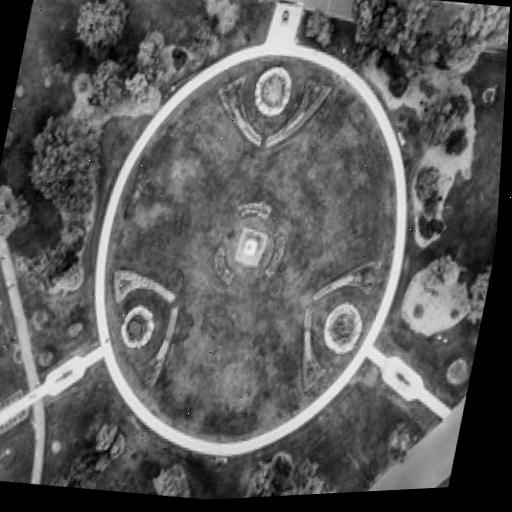tree-top: (28, 110, 106, 207), (435, 0, 511, 81), (250, 453, 356, 497), (64, 0, 137, 57), (379, 0, 443, 60), (411, 94, 465, 158), (87, 55, 132, 121), (458, 255, 494, 330), (347, 0, 397, 51), (417, 254, 461, 305), (43, 448, 95, 491), (0, 174, 30, 243), (87, 413, 121, 463), (132, 29, 163, 71), (55, 262, 85, 298), (157, 463, 184, 498), (107, 428, 127, 462)
